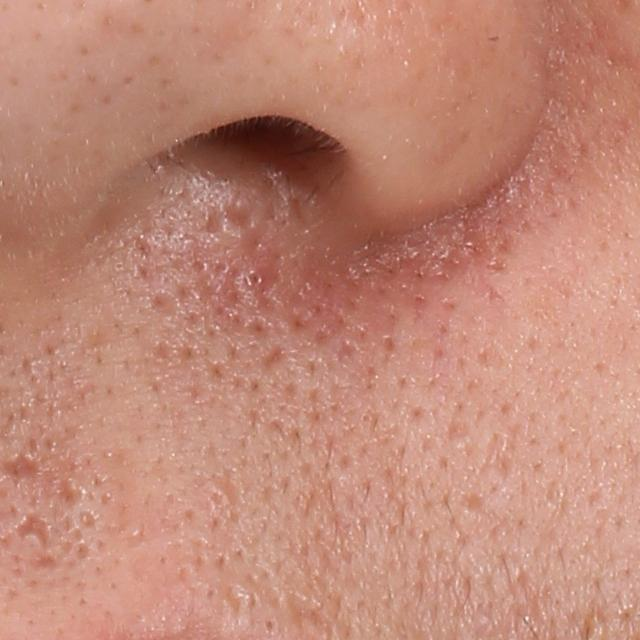atrophic_scar: (11, 512, 51, 548), (57, 469, 91, 510), (260, 341, 288, 373), (26, 550, 60, 572)
